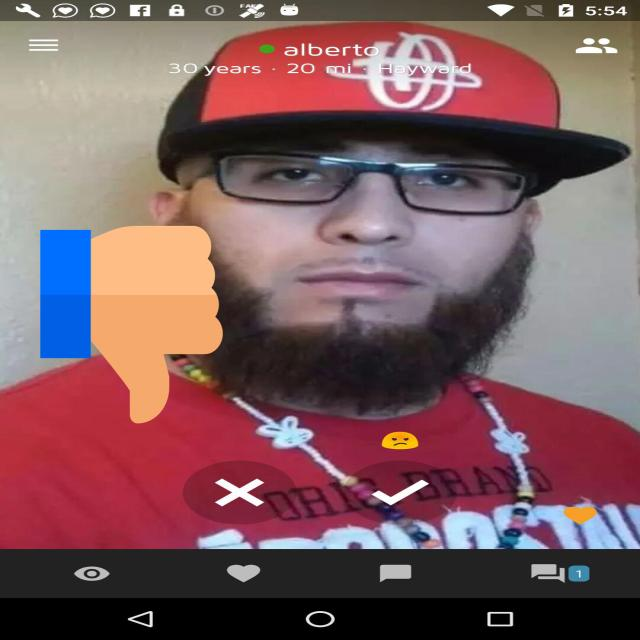obstruction: (40, 221, 223, 428)
